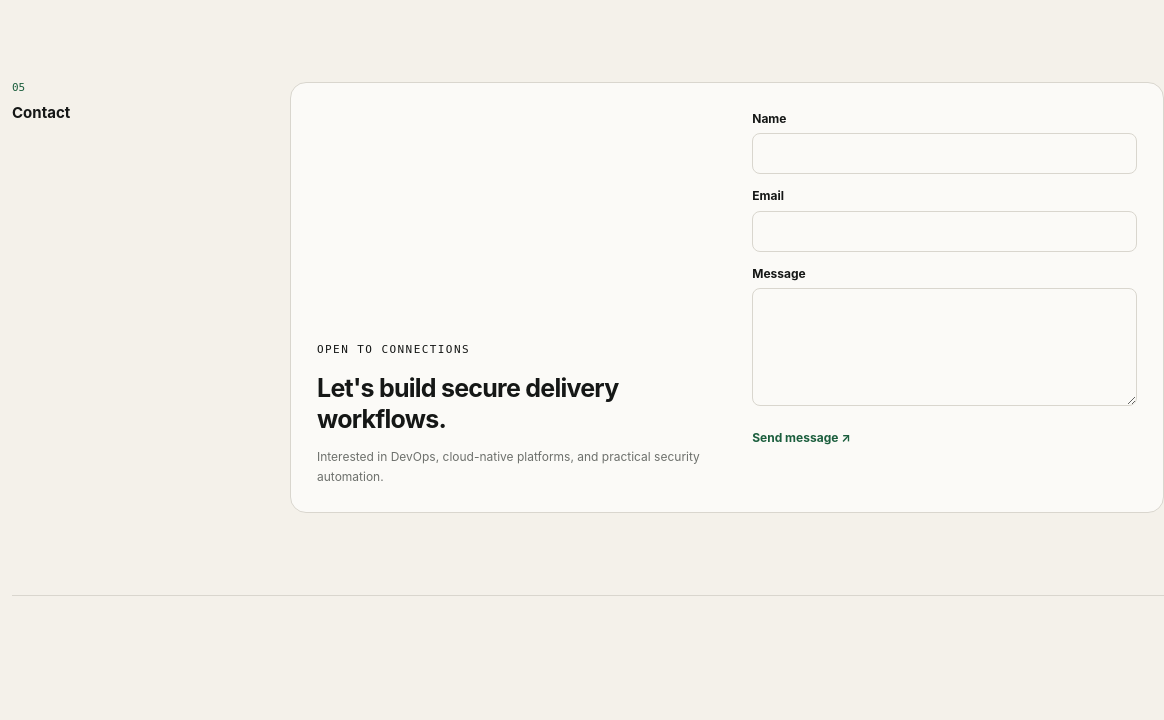
Test: Contact form › submits the form to the same-origin API and reports success
The width and height of the screenshot is (1164, 720).
Type "Ada Lovelace" into the field labelled "Name". click: (945, 154)
box: [752, 133, 1137, 174]
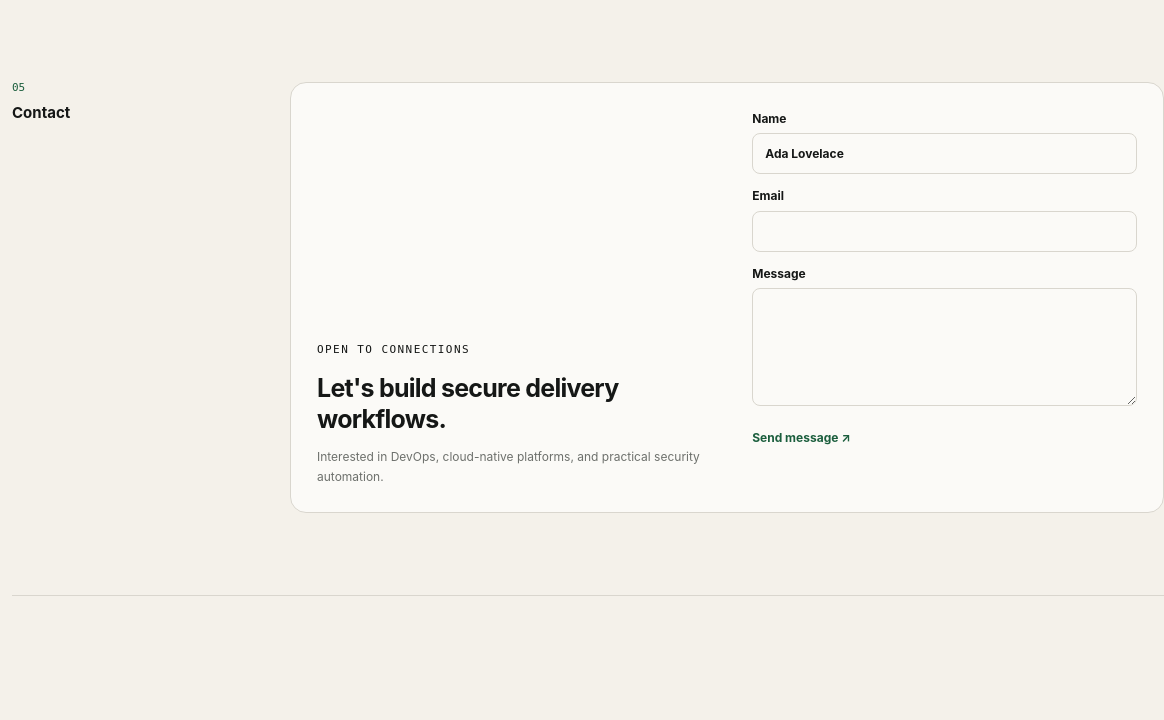
Type "ada@example.com" into the field labelled "Email". click: (945, 231)
box: [752, 211, 1137, 252]
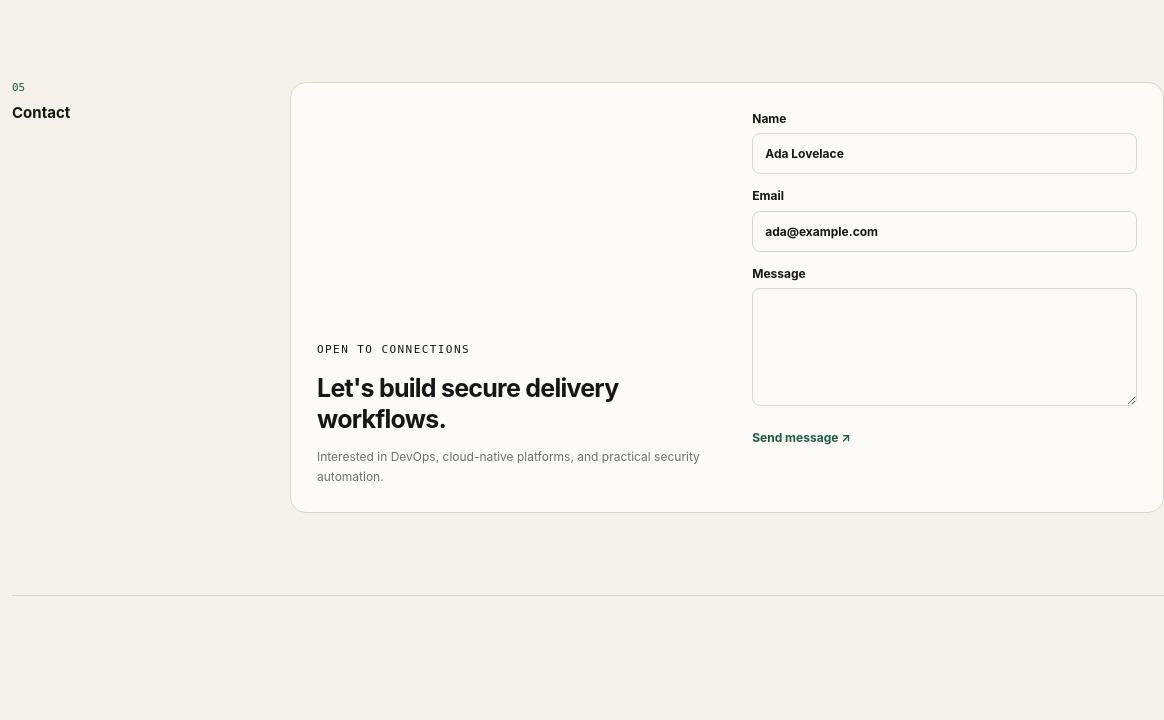
Type "Please contact me about secure delivery." into the text box labelled "Message". click: (945, 347)
box: [752, 288, 1137, 406]
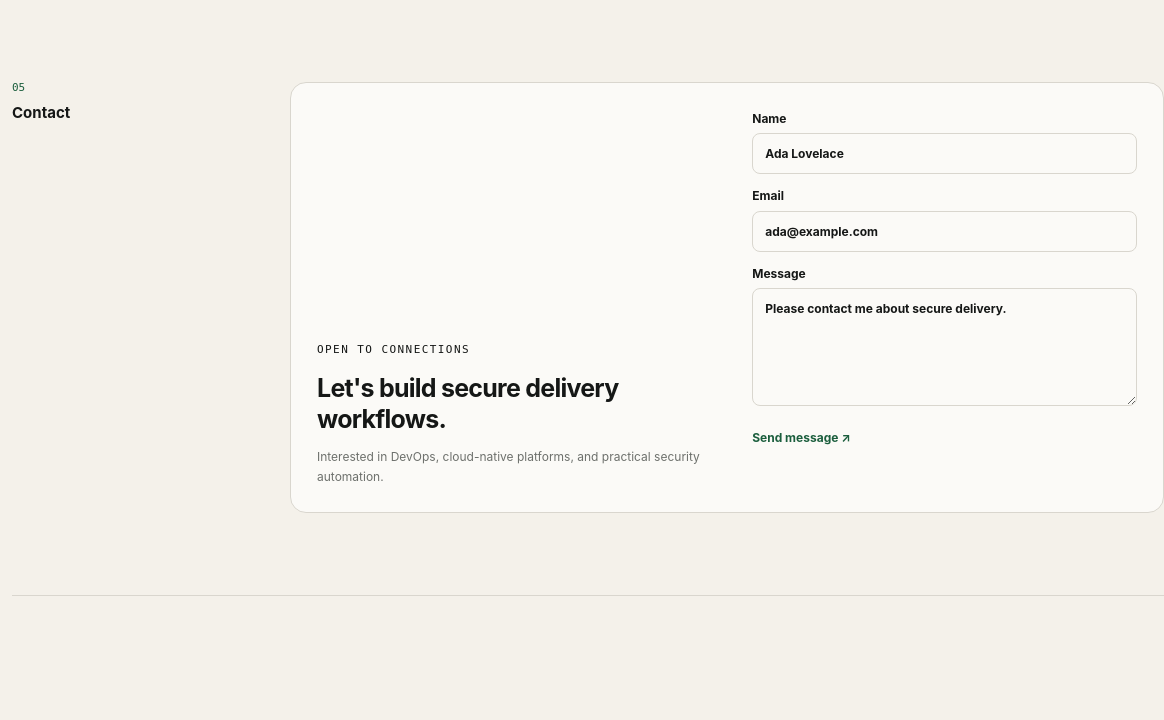
Click the button "Send message ↗". click: (801, 438)
box: [752, 418, 851, 457]
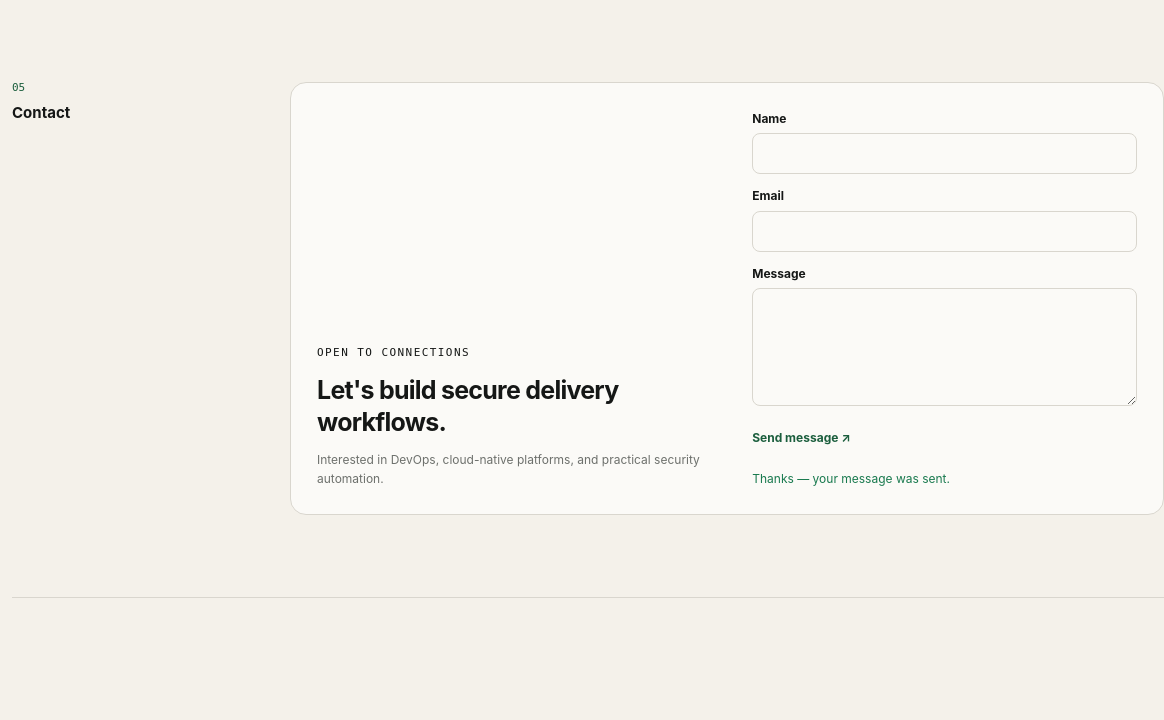
expect the message shows "your message was sent": met, box [752, 471, 950, 486]
